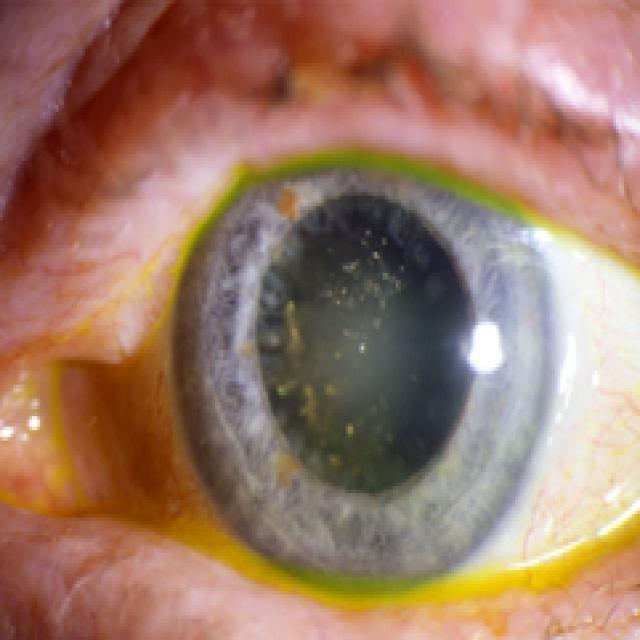Cataract: (203, 152, 554, 570)
